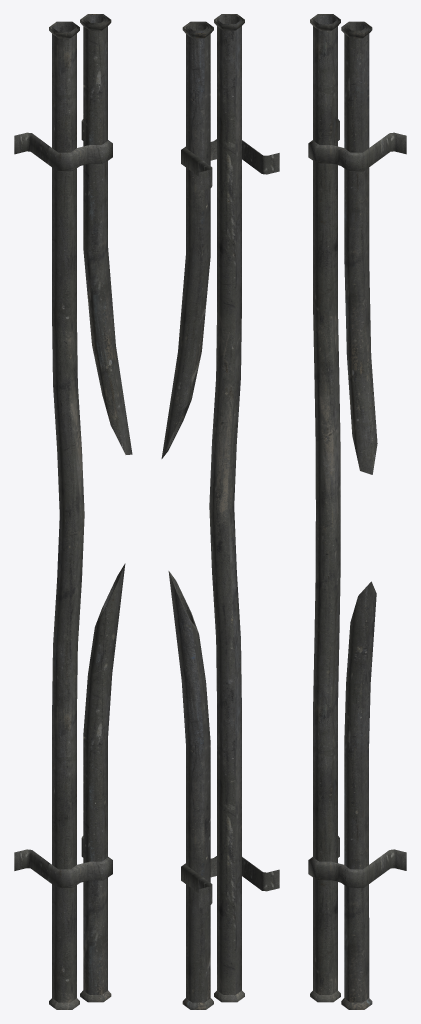
The model's file is SM_Corridor_Pipe_Set_Gray_E.fbx.
3 views of the same model, side by side, from view 1: azimuth 30°, elevation 25°; view 2: azimuth 210°, elevation 25°; view 3: azimuth 330°, elevation 25° (orthographic).
Visible parts, largest first — view 1: SM_Corridor_Pipe_Set_Gray_E; view 2: SM_Corridor_Pipe_Set_Gray_E; view 3: SM_Corridor_Pipe_Set_Gray_E.
Boxes of the visible parts, left/top/right/bottom form: SM_Corridor_Pipe_Set_Gray_E: left=14, top=14, right=132, bottom=1009; SM_Corridor_Pipe_Set_Gray_E: left=161, top=14, right=279, bottom=1009; SM_Corridor_Pipe_Set_Gray_E: left=308, top=14, right=406, bottom=1009.
Size of the model in its own units: 26.49 by 300 by 21.48.
